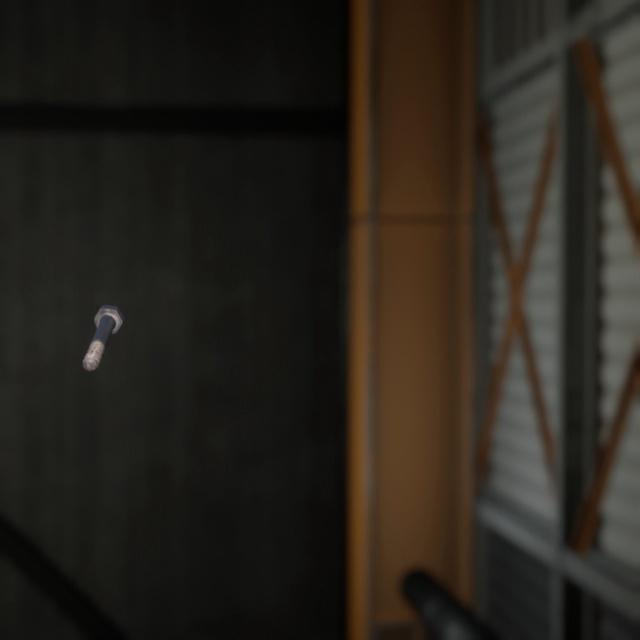bolt: (78, 283, 128, 357)
